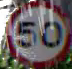Speed limit: (2, 0, 71, 68)
